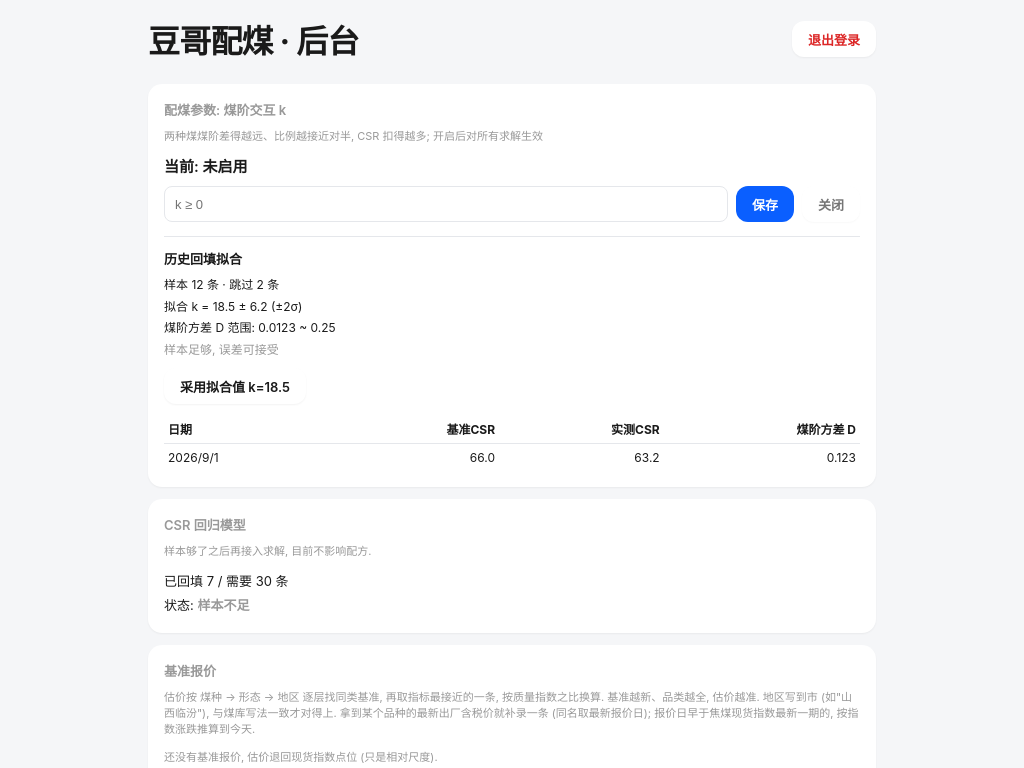
Test: AdminScreen 煤阶交互 k › 负数在前端拦下, 不发请求
Expected: the text "当前: 未启用" is shown, x1=164 y1=157 x2=248 y2=176
In the number field named "煤阶交互 k": coordinates (446, 204) x1=164 y1=186 x2=728 y2=222, type "-1"
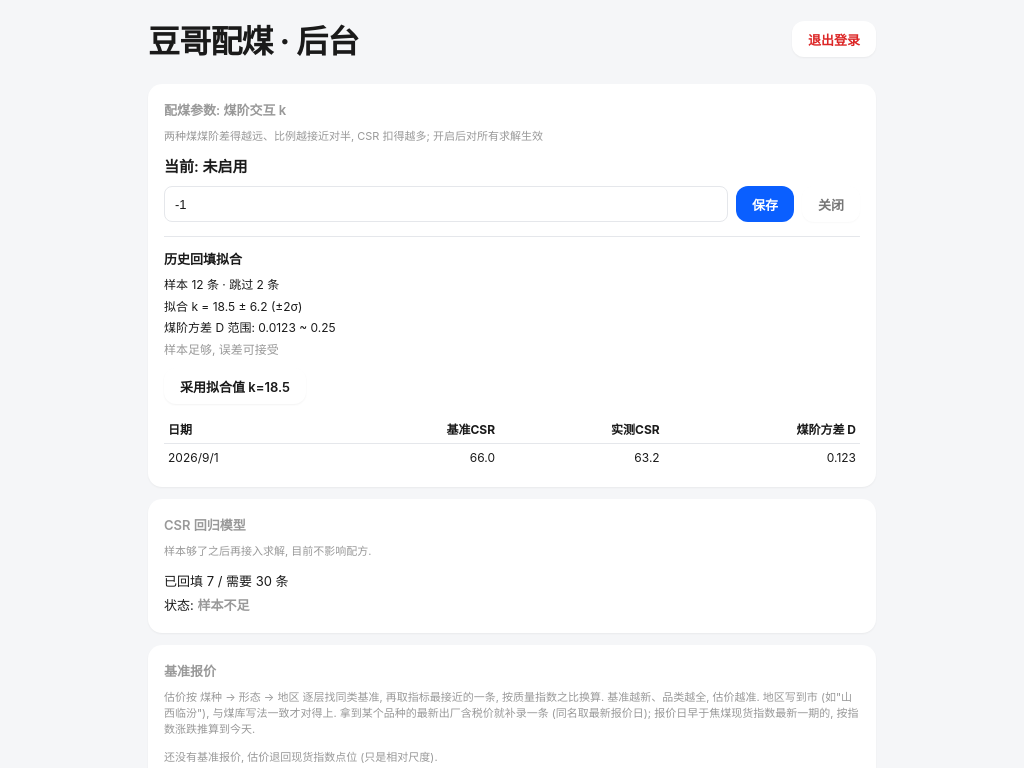
Click the button "保存": coordinates (765, 204) x1=736 y1=186 x2=794 y2=222
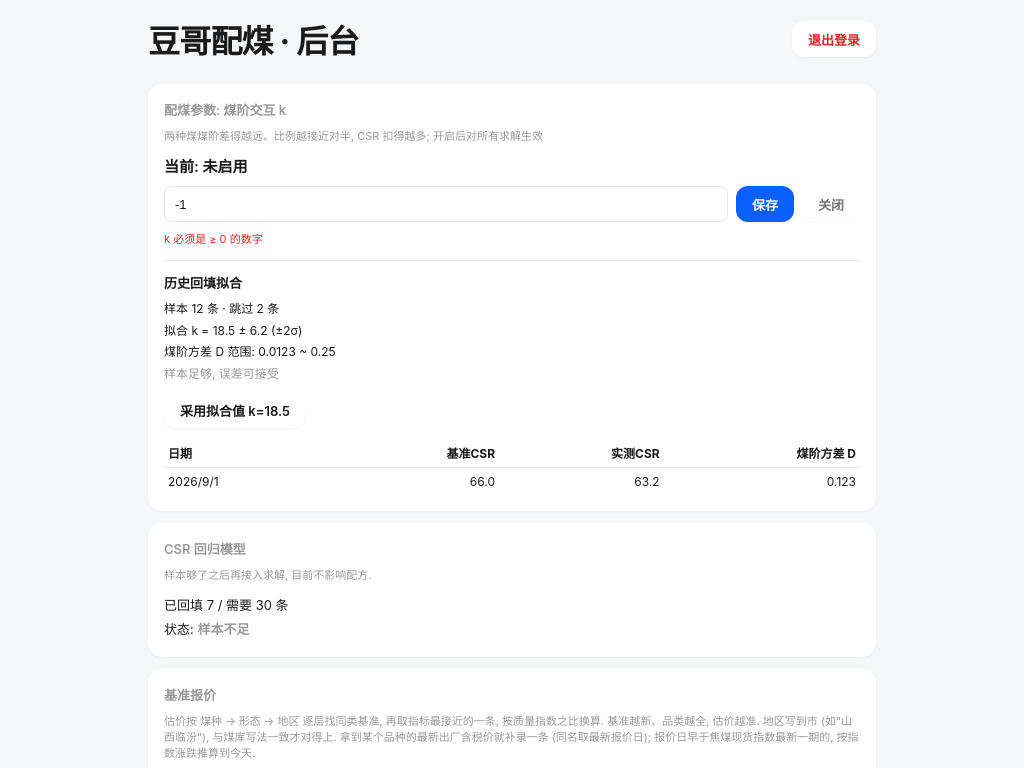
Result: the text "k 必须是 ≥ 0 的数字" is shown at x1=164 y1=232 x2=263 y2=246
